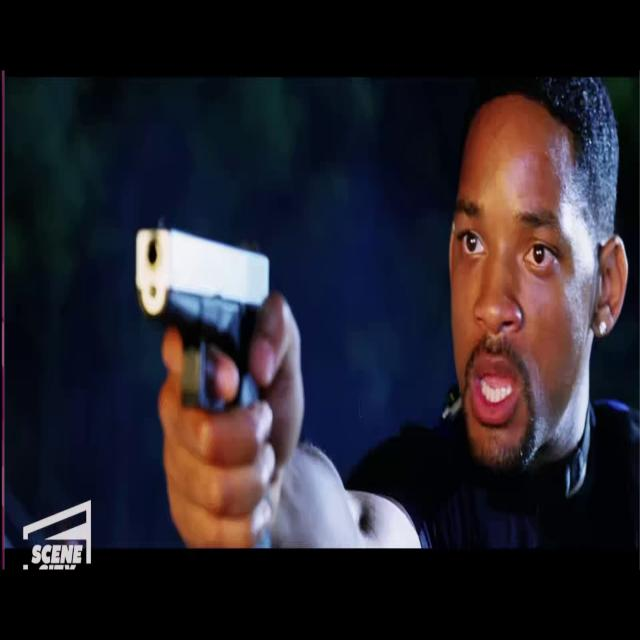weapons: (124, 203, 298, 464)
